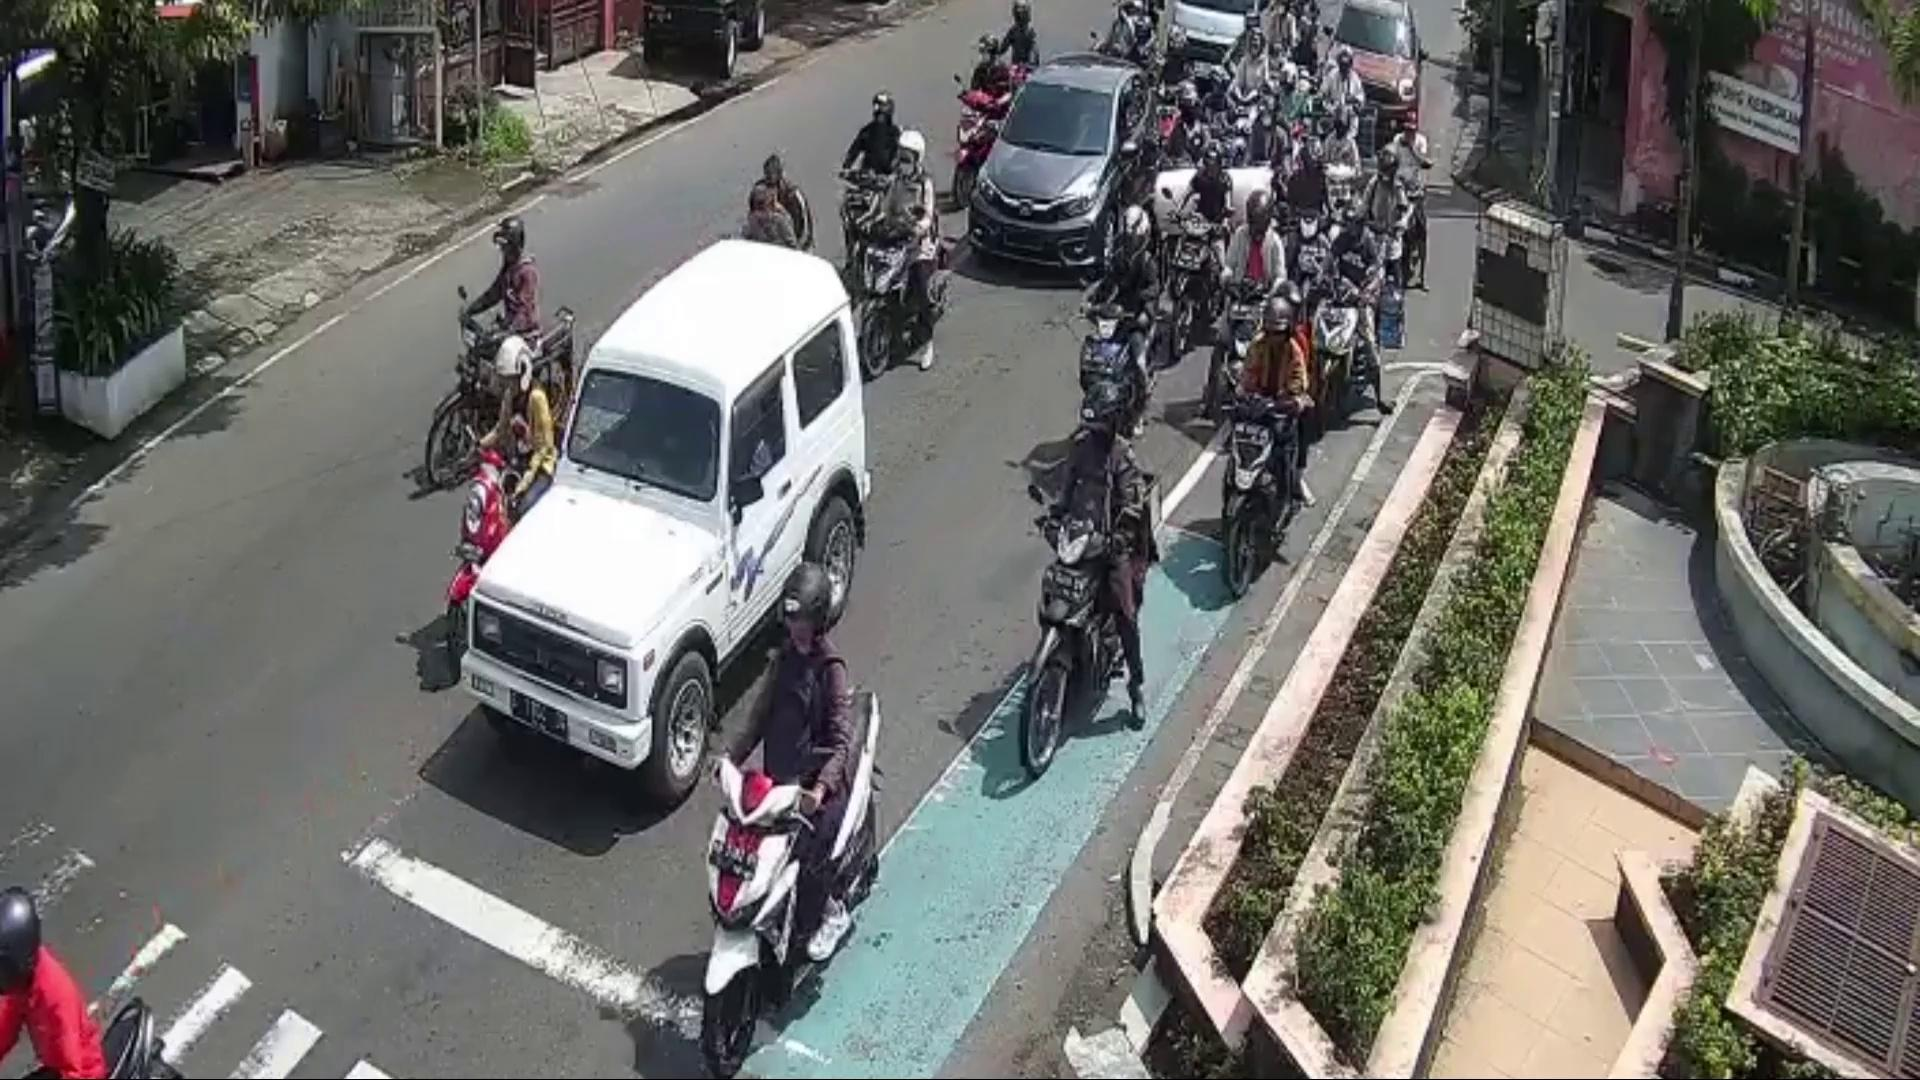car: (463, 236, 876, 815), (968, 50, 1162, 282), (1324, 0, 1416, 144)
motorbike: (699, 692, 881, 1080), (1017, 512, 1113, 785), (851, 216, 957, 384), (1221, 393, 1299, 601), (1311, 277, 1367, 435)
